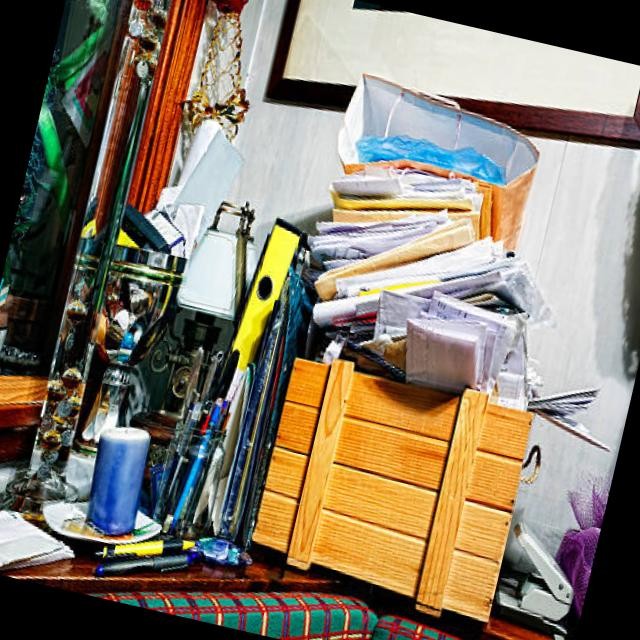electronic: (330, 68, 548, 208), (163, 116, 250, 248), (77, 418, 155, 540), (392, 305, 492, 399), (0, 492, 81, 584)
